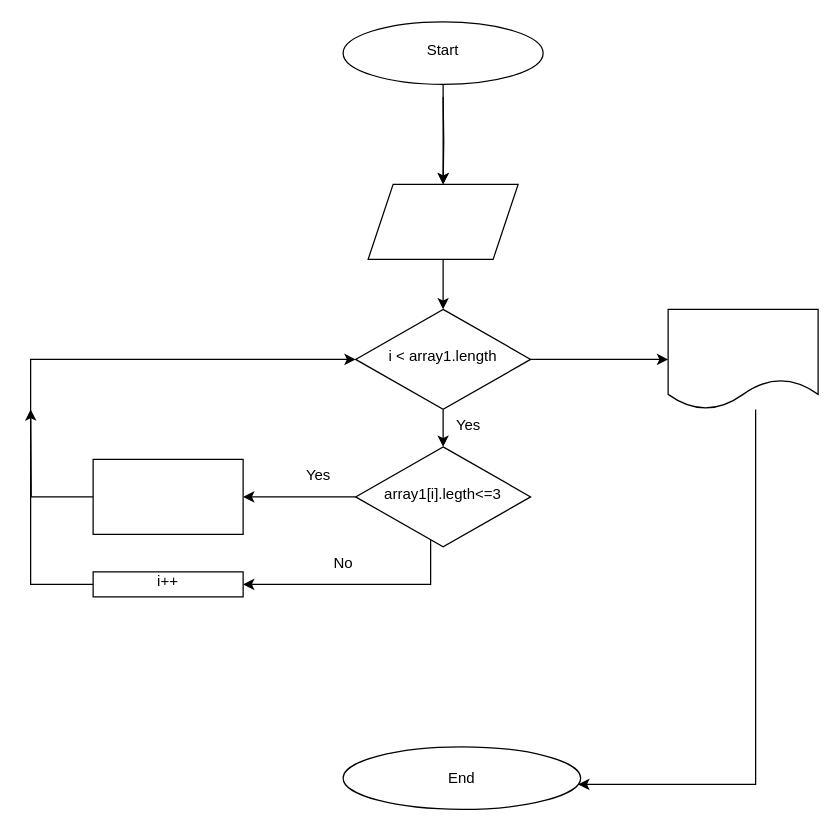
The diagram is 840 pixels wide and 831 high, and some of its shapes have lost their labels. The shapes that lost their labels are listed below. From the top down, each one's centre as x and y in pixels, then its label:
(x=442, y=221): string[] array1 string[] array2 int j = 0
(x=742, y=358): Print array2
(x=167, y=496): array2[j]=array1[i] j++ i++
